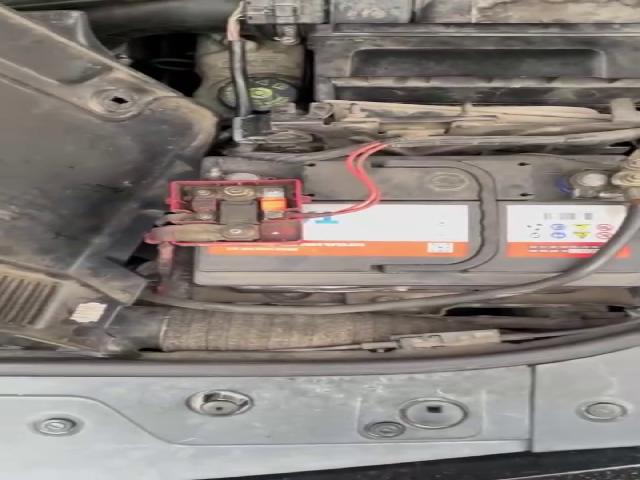accumulator: (168, 155, 640, 284)
